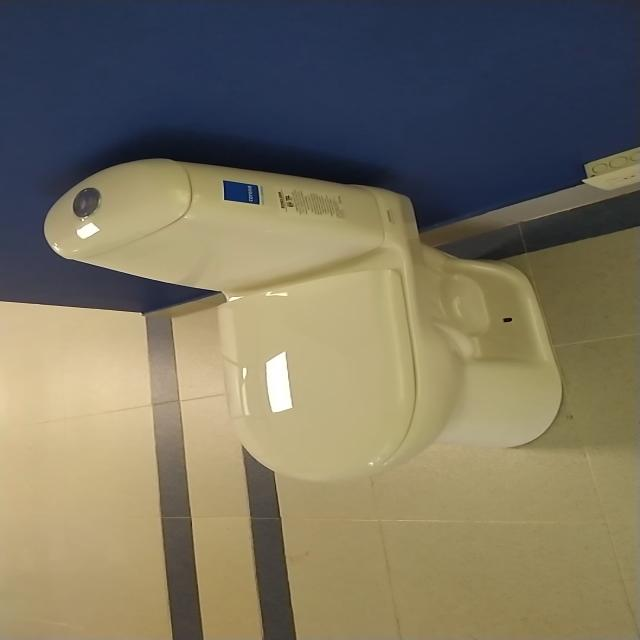toilet: (42, 157, 564, 483)
